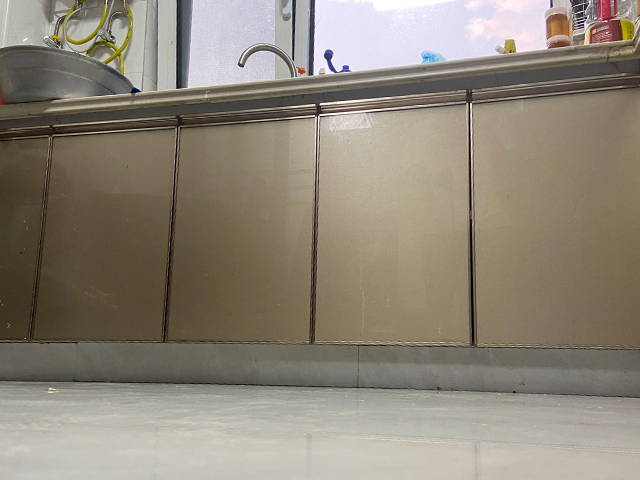cabinet: (1, 38, 640, 399)
